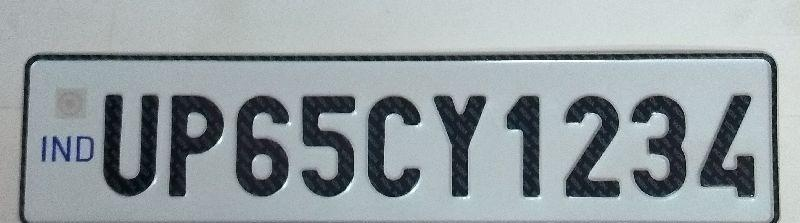1: (505, 88, 547, 205)
2: (558, 82, 627, 205)
3: (631, 96, 694, 205)
4: (695, 72, 764, 206)
5: (294, 88, 362, 203)
6: (233, 88, 295, 200)
C: (363, 89, 431, 201)
P: (166, 89, 227, 199)
U: (99, 89, 163, 198)
Y: (432, 89, 494, 207)
